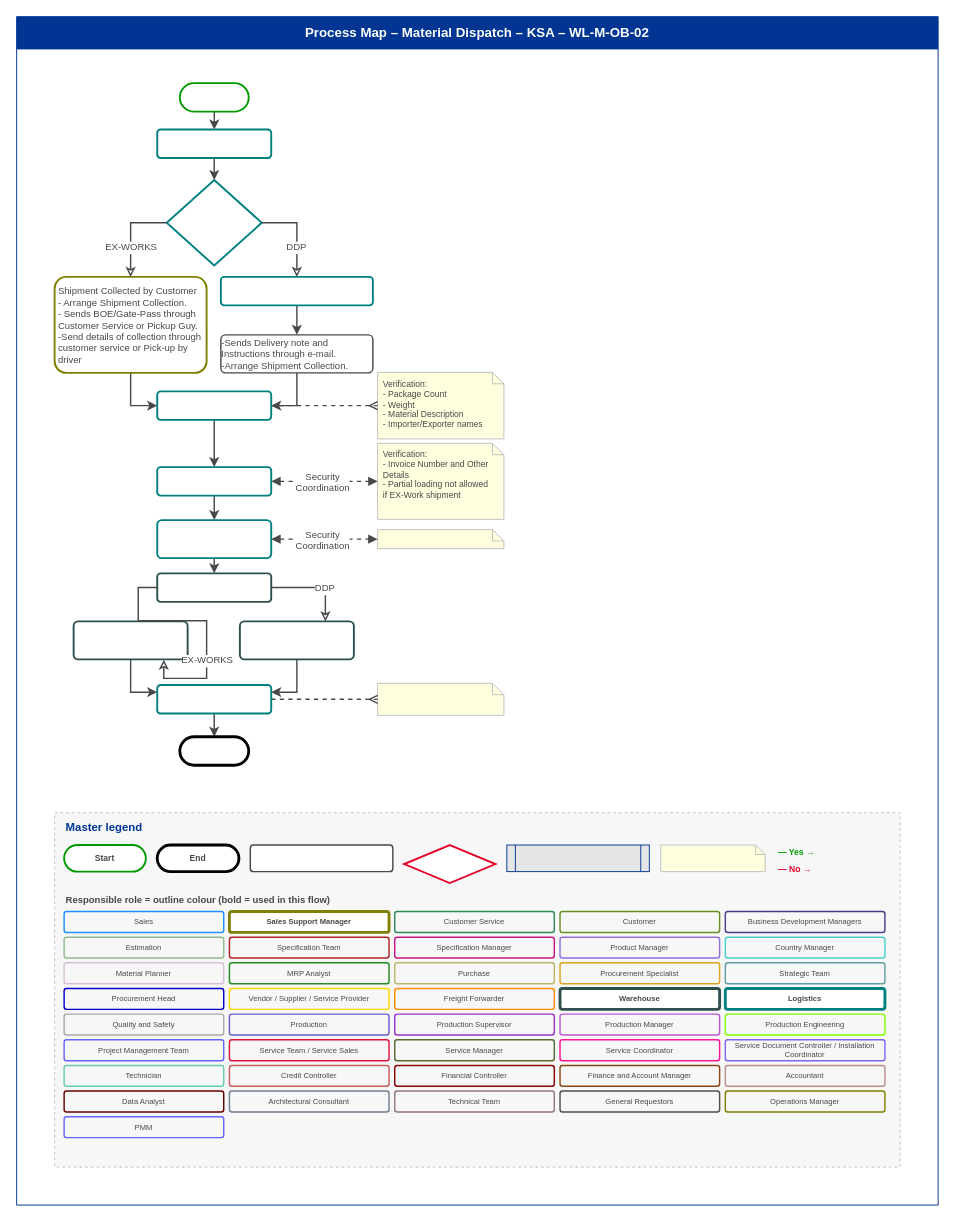
Some shapes in this 955 by 1222 pixel diagram are drawn without their labels. Each missing label, with the centre of its shape:
"- PGI : Post Goods Issue" goes at (x=440, y=539).
"Acknowledgement on delivery Note by Receiver" goes at (x=130, y=640).
"Activity (outline = role)" goes at (x=321, y=858).
"Arrange Shipment with Contracted Forwarder" goes at (x=296, y=291).
"Completion of Shipping document" goes at (x=214, y=143).
"Confirm Collection details" goes at (x=214, y=405).
"Decision" goes at (x=449, y=864).
"Delivery Acknowledged after material delivered to Customer" goes at (x=296, y=640).
"DISPATCH PROCESS" goes at (x=213, y=97).
"EXIT" goes at (x=214, y=750).
"Freight forwards Invoice verification" goes at (x=214, y=481).
"Hard copies are stored for 5 years" goes at (x=440, y=698).
"Issue and Share PGI, Delivery Note & Warehouse Set" goes at (x=214, y=539).
"Linked process (Ref ID)" goes at (x=577, y=858).
"Material Loaded as per Warehouse set document" goes at (x=214, y=587).
"Note / checklist" goes at (x=712, y=858).
"Type" goes at (x=213, y=222).
"Update Details with all documents copy to SAP" goes at (x=214, y=699).
